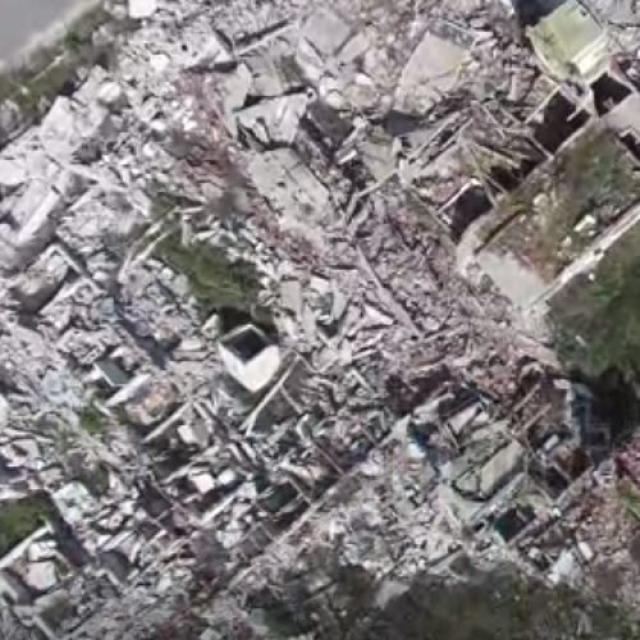collapsed_building: (27, 11, 639, 612)
